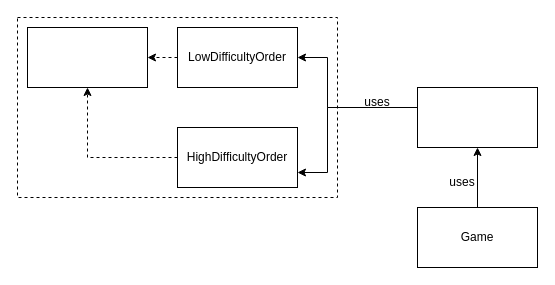
This 555x285 diagram has some shape labels left out. The centre of each missing label's shape, as x and y in pixels:
(Interface) Order: pixel 87 57
InstructionsController: pixel 477 117
